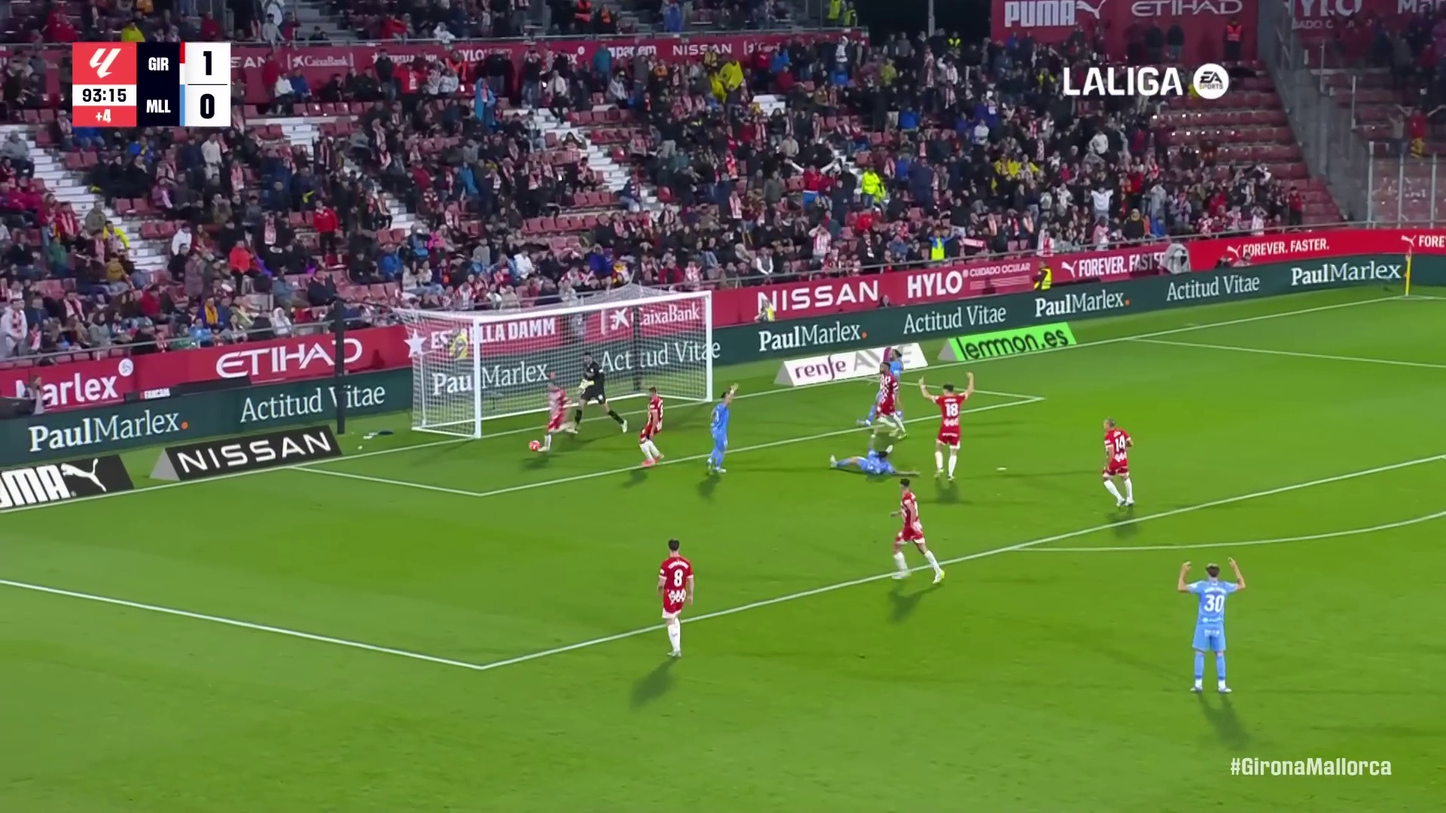ball: (526, 439, 549, 458)
player: (1169, 556, 1251, 695), (917, 371, 976, 484), (886, 477, 945, 583), (694, 386, 741, 503), (569, 351, 629, 438), (654, 538, 697, 658), (857, 350, 914, 438), (827, 434, 922, 481), (1096, 417, 1139, 510), (532, 383, 582, 452), (634, 386, 667, 471), (875, 362, 907, 440)
